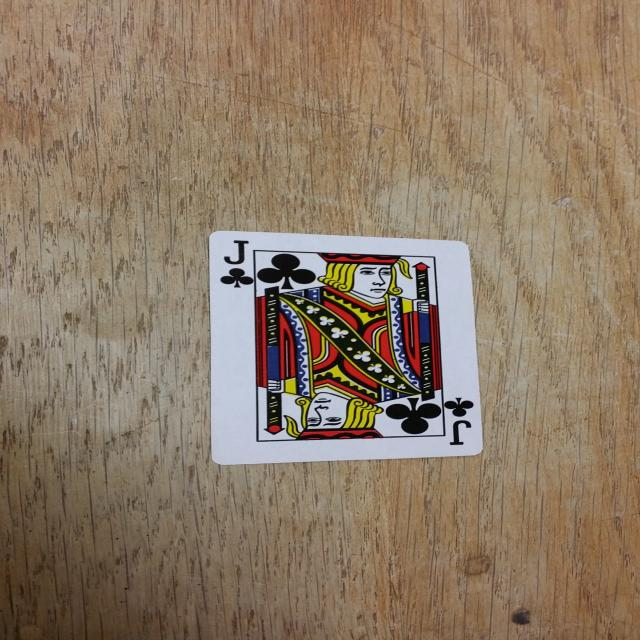Jc: (434, 394, 481, 452), (216, 237, 260, 291)
